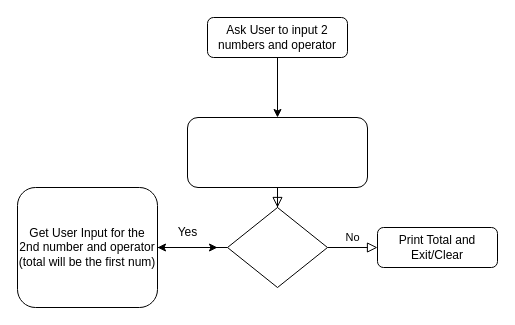
This 515x325 diagram has some shape labels left out. Each missing label, with the centre of its shape:
Get User Input (convert number input to int): point 277,152
The Total. Continue?: point 277,247
